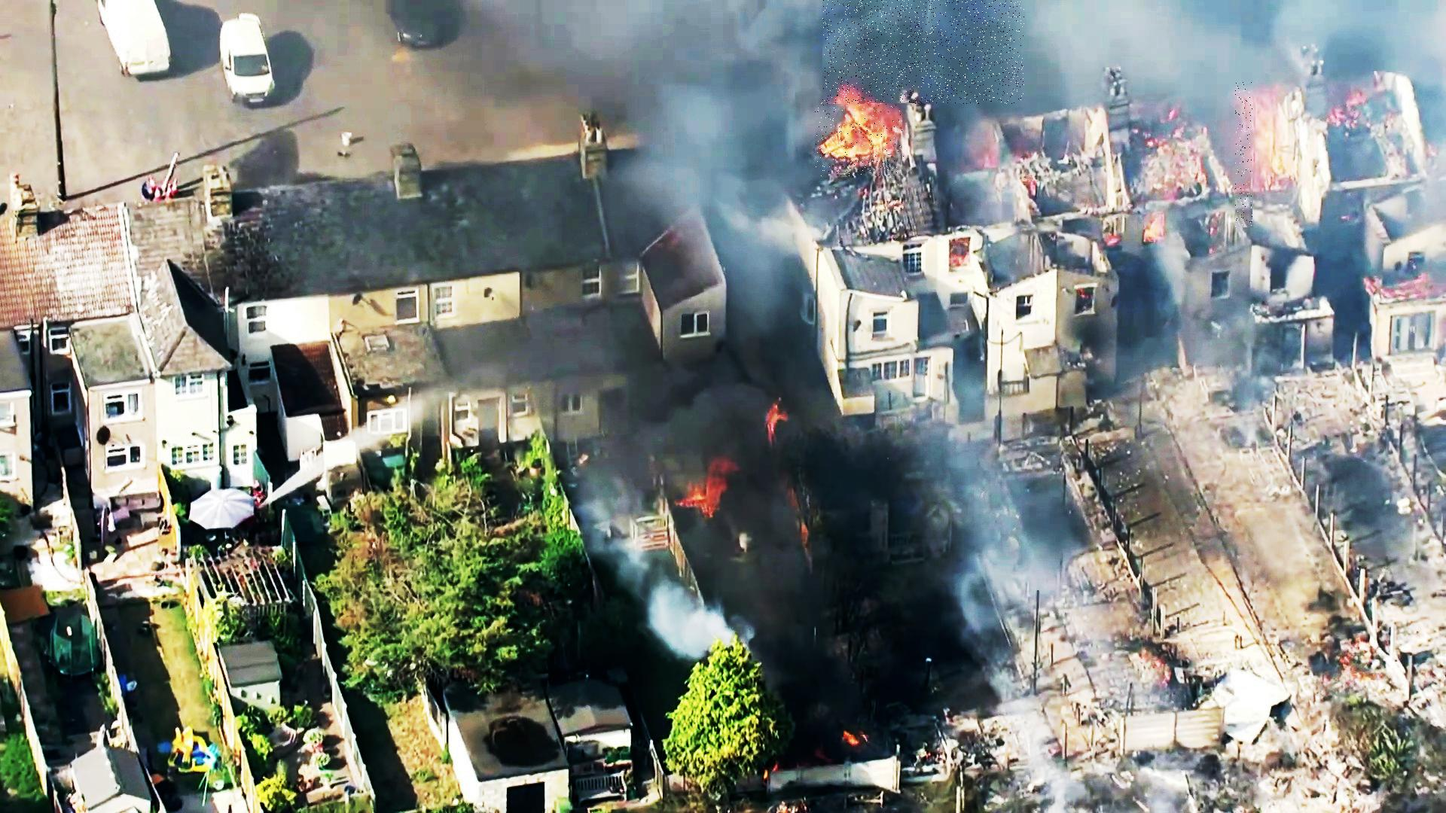fire: (816, 96, 904, 177), (1235, 81, 1253, 229)
smoke: (823, 0, 1025, 104)
